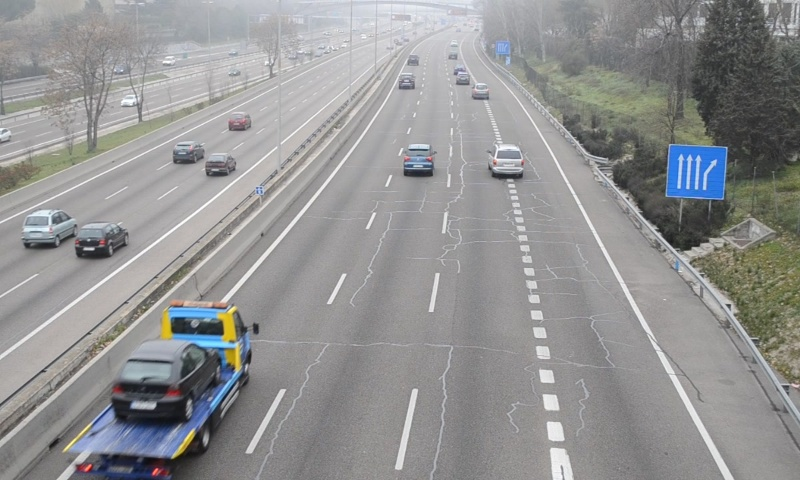car: (490, 145, 523, 176), (404, 144, 435, 174), (471, 82, 490, 100), (397, 72, 415, 91)
small-truck: (62, 302, 253, 480)
